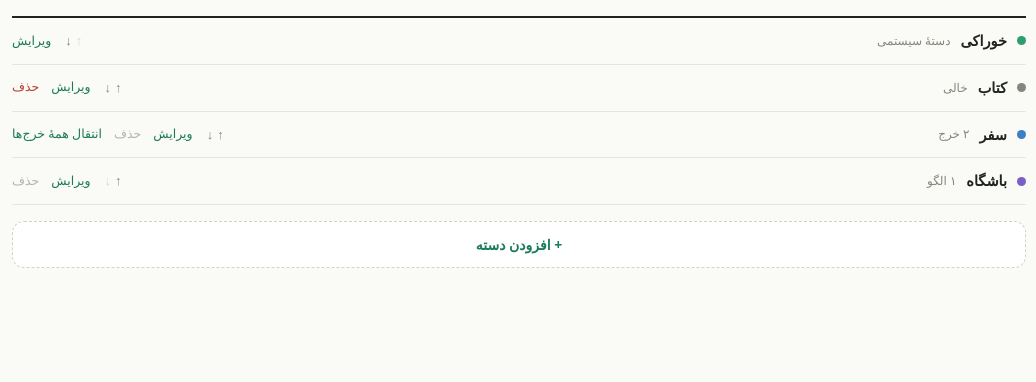
Scenario: move-all flow (decision 05/06) › moves every expense to the picked target, then deletes the emptied category
The image size is (1036, 382).
Click the button "انتقال همهٔ خرج‌ها". click: (57, 134)
box: [12, 125, 102, 144]
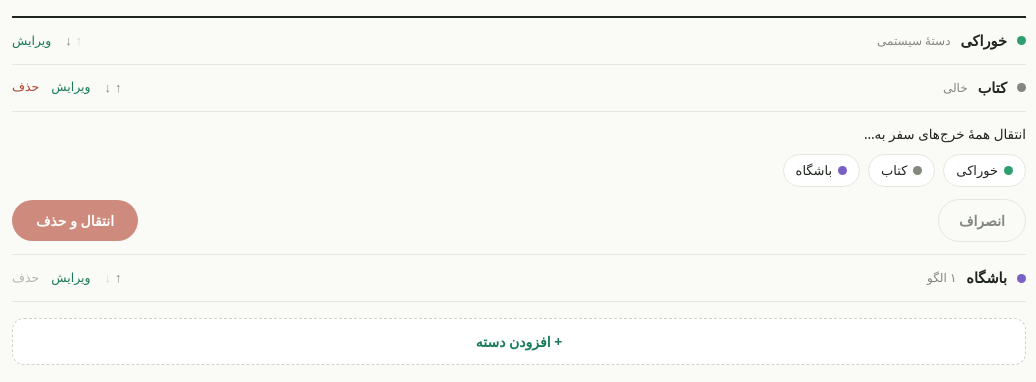
Click the radio button labelled "خوراکی". click: (985, 171)
box: [943, 154, 1026, 187]
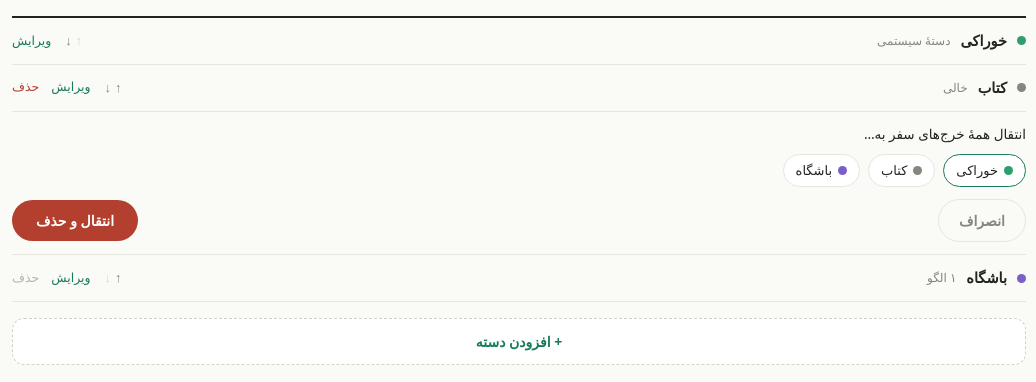
Click the button "انتقال و حذف". click: (75, 221)
box: [12, 200, 138, 241]
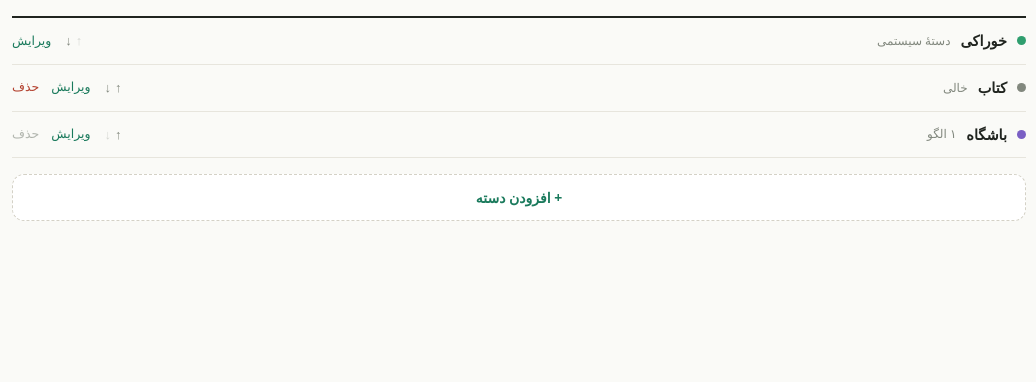
Check: the text "سفر" is gone
